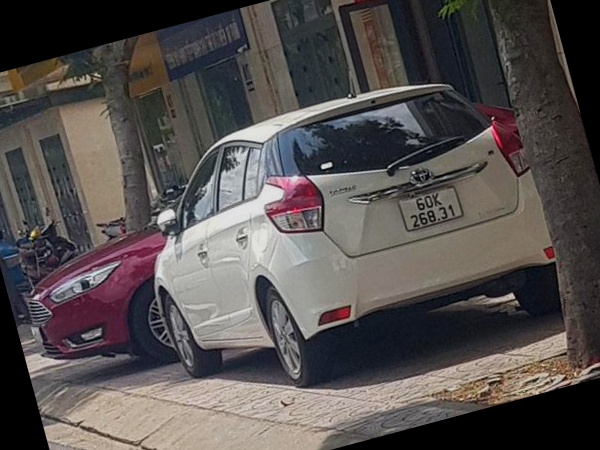lisence: (398, 187, 463, 233)
